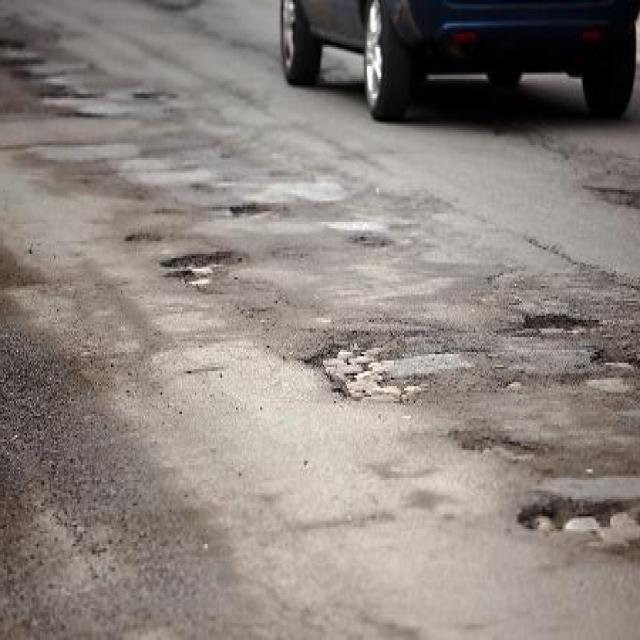pothole: (303, 335, 428, 410), (513, 482, 640, 546), (161, 248, 249, 294), (580, 348, 640, 397), (516, 307, 594, 337), (586, 180, 640, 213), (227, 200, 276, 218)
